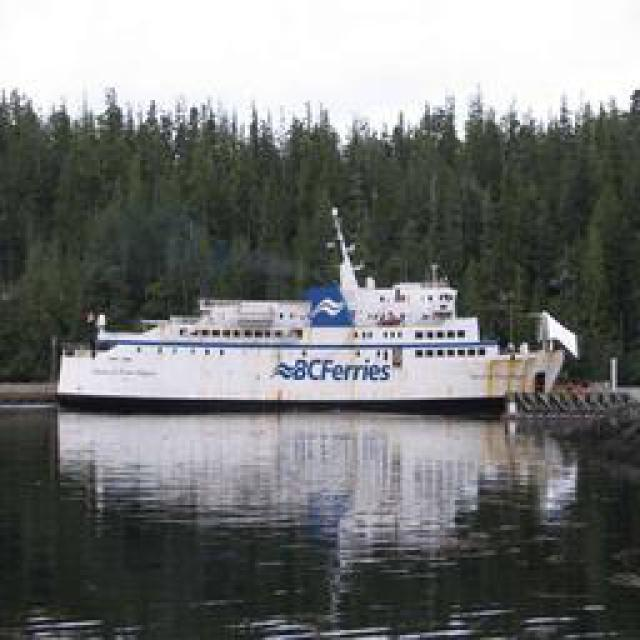Ship: (47, 214, 587, 407)
